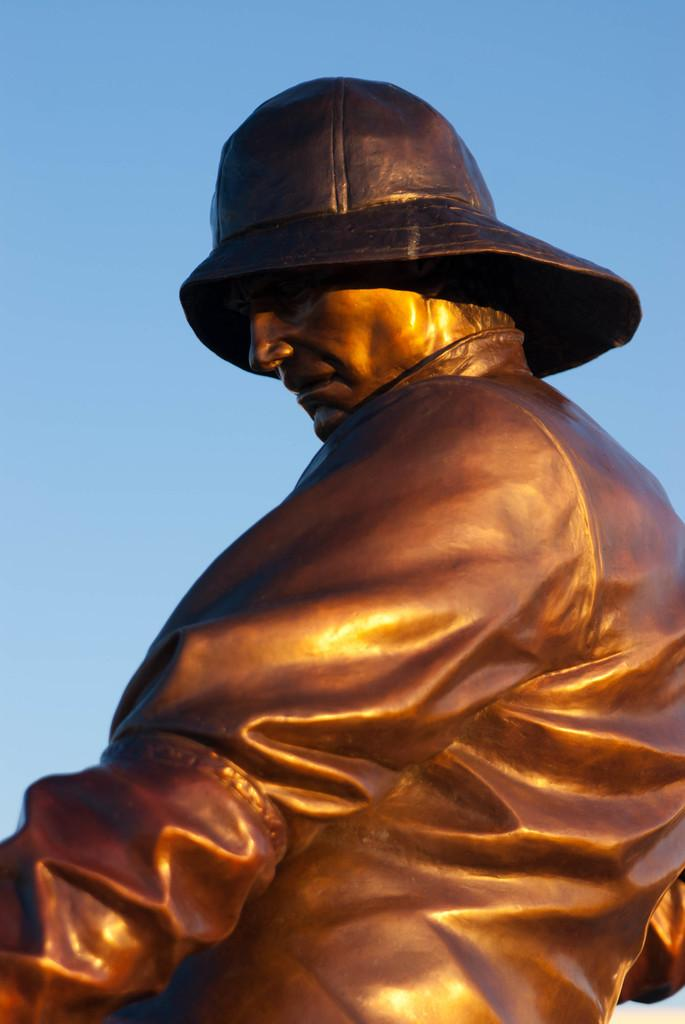Hat: (167, 77, 646, 385)
